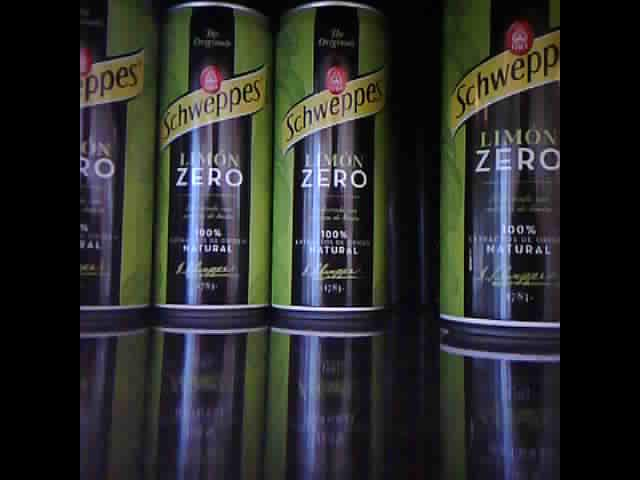schweppes: (439, 3, 559, 345), (270, 4, 390, 322), (151, 7, 272, 320), (79, 2, 157, 318)
